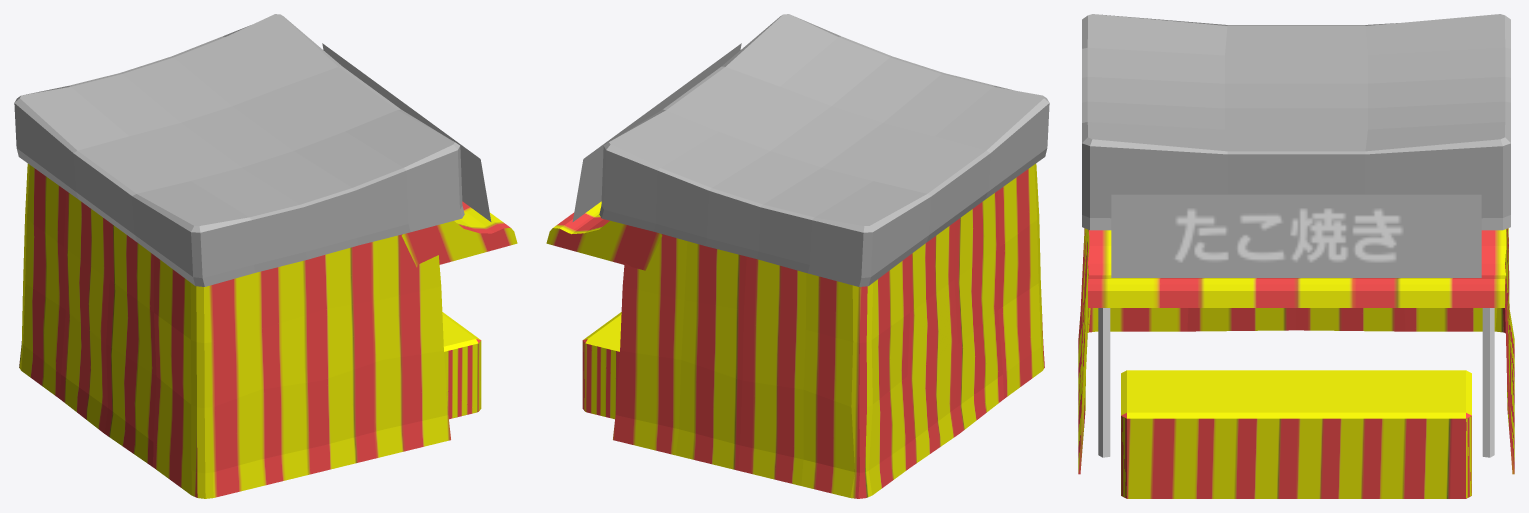
File: rowyataitakoyaki_1.fbx
3 renders of one model, left to right at view 1: azimuth 30°, elevation 25°; view 2: azimuth 150°, elevation 25°; view 3: azimuth 270°, elevation 25°, orthographic. The views are drawn at different scales.
Visible parts, largest first — view 1: 立方体, Cube, Cube.001, 立方体.001, 平面; view 2: 立方体, Cube, Cube.001, 立方体.001, 平面; view 3: Cube, 立方体.001, 平面, Cube.001, 立方体, 円柱.
Part boxes in pixels (<box>): 立方体: <box>19,163,450,498</box>; Cube: <box>14,14,464,286</box>; Cube.001: <box>401,201,517,267</box>; 立方体.001: <box>442,312,481,419</box>; 平面: <box>322,43,491,221</box>; 立方体: <box>613,163,1044,498</box>; Cube: <box>599,14,1049,286</box>; Cube.001: <box>546,201,662,270</box>; 立方体.001: <box>582,312,621,419</box>; 平面: <box>572,43,741,221</box>; Cube: <box>1082,14,1510,230</box>; 立方体.001: <box>1121,370,1471,498</box>; 平面: <box>1111,194,1481,277</box>; Cube.001: <box>1088,229,1506,307</box>; 立方体: <box>1078,228,1514,474</box>; 円柱: <box>1098,308,1494,457</box>.
Bounding box in the file's own units: 133 × 114 × 132.
2 materials, 2 textured.
